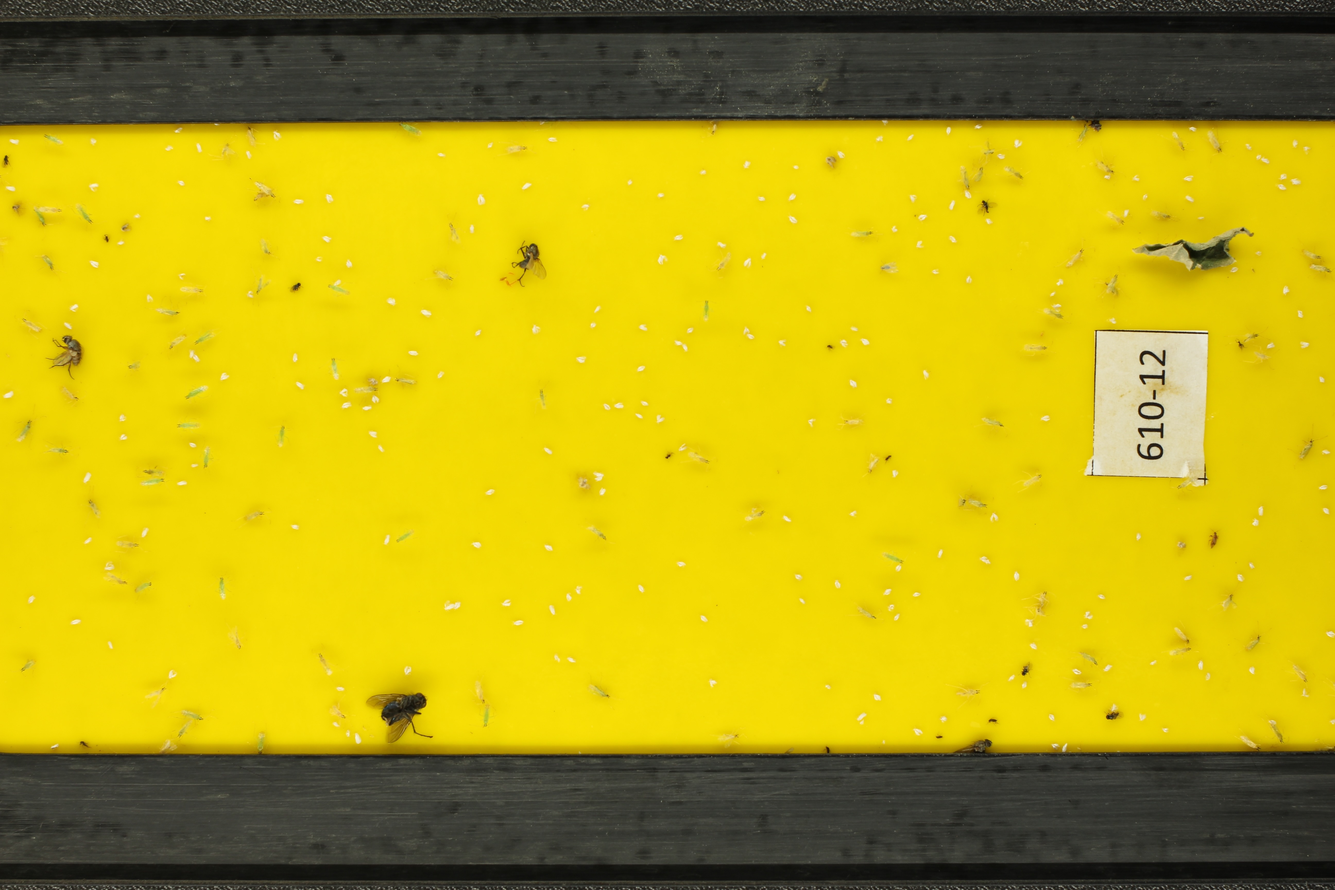MR: (228, 500, 280, 536), (1013, 465, 1054, 499), (221, 618, 251, 660), (583, 670, 616, 707), (581, 516, 613, 554), (1239, 620, 1273, 654), (855, 446, 883, 487), (1264, 715, 1297, 749), (210, 565, 236, 606), (854, 597, 882, 634), (307, 642, 335, 678), (40, 438, 77, 465), (140, 680, 171, 712), (1284, 655, 1316, 685), (79, 491, 108, 524), (1291, 438, 1318, 472), (1167, 617, 1195, 647), (1231, 726, 1264, 751), (685, 448, 724, 469), (709, 727, 746, 749), (393, 524, 425, 549), (738, 502, 771, 526), (949, 679, 984, 701), (1175, 470, 1201, 499), (1064, 678, 1101, 698), (176, 704, 210, 725), (1164, 643, 1201, 662), (1217, 587, 1242, 614), (114, 538, 149, 556), (101, 573, 133, 592), (16, 655, 41, 679), (133, 577, 157, 602), (251, 722, 271, 751), (136, 475, 170, 492), (200, 441, 216, 477), (480, 702, 498, 734), (468, 679, 491, 704), (1078, 647, 1102, 670), (170, 719, 196, 740), (1028, 586, 1054, 605), (135, 463, 170, 476), (971, 495, 996, 512), (890, 552, 909, 566)
WF: (59, 319, 79, 333), (527, 321, 545, 336), (654, 252, 673, 266), (1278, 282, 1293, 299), (1037, 412, 1056, 425), (674, 440, 690, 455), (417, 305, 433, 320), (593, 467, 607, 484), (635, 321, 652, 335), (846, 377, 863, 391), (652, 413, 671, 425), (384, 295, 399, 310), (706, 676, 722, 690), (855, 710, 869, 726), (940, 124, 956, 138), (741, 255, 757, 269), (919, 368, 935, 382), (2, 388, 19, 401), (84, 180, 102, 192), (113, 236, 131, 248), (291, 380, 309, 392), (469, 538, 484, 552), (271, 128, 285, 143), (475, 192, 489, 207), (1011, 136, 1025, 151), (1050, 300, 1065, 314), (86, 257, 102, 270), (739, 158, 755, 171), (882, 395, 898, 408), (379, 373, 396, 385), (834, 149, 851, 161), (785, 214, 802, 226), (1227, 265, 1244, 277), (541, 445, 555, 459), (194, 140, 208, 154), (466, 222, 480, 236), (838, 336, 852, 350), (634, 581, 647, 596), (337, 386, 352, 399), (343, 257, 358, 270), (322, 192, 337, 205), (579, 202, 594, 215), (872, 690, 884, 706), (115, 412, 131, 424), (519, 181, 535, 193), (339, 400, 356, 411), (671, 233, 688, 244), (243, 148, 256, 162), (67, 301, 81, 314), (586, 319, 600, 332), (775, 336, 789, 349), (914, 238, 928, 251), (81, 470, 93, 485), (174, 175, 189, 187), (433, 368, 448, 380), (915, 212, 930, 224), (1052, 277, 1067, 289), (1263, 340, 1278, 352), (167, 665, 178, 681), (612, 401, 628, 412), (1274, 182, 1290, 193), (1180, 173, 1196, 184), (382, 532, 391, 551), (114, 433, 133, 442), (367, 395, 384, 405), (781, 513, 794, 526), (1299, 688, 1312, 701), (288, 351, 301, 364), (846, 507, 860, 519), (176, 271, 190, 283), (546, 134, 560, 146), (945, 233, 959, 245), (807, 416, 819, 430), (1255, 504, 1266, 519), (162, 144, 177, 155), (218, 372, 233, 383), (634, 363, 649, 374), (1186, 124, 1201, 135), (404, 349, 422, 358), (511, 618, 527, 628), (631, 411, 647, 421), (859, 337, 875, 347), (26, 594, 39, 606), (576, 353, 588, 366), (592, 303, 604, 316), (905, 132, 918, 144), (1101, 172, 1114, 184), (1183, 193, 1196, 205), (69, 617, 83, 628), (547, 602, 558, 616), (132, 210, 146, 221), (367, 429, 381, 440), (360, 404, 374, 415), (907, 193, 921, 204), (787, 192, 801, 203), (715, 239, 729, 250), (962, 274, 976, 285), (1105, 316, 1119, 327), (1303, 145, 1317, 156), (1296, 307, 1307, 321), (353, 731, 363, 746), (573, 583, 583, 598), (3, 184, 18, 194), (292, 197, 307, 207), (973, 123, 988, 133), (1298, 340, 1313, 350), (105, 639, 117, 651), (543, 541, 555, 553), (700, 614, 712, 626), (1323, 628, 1335, 640), (171, 126, 187, 135), (314, 253, 326, 265), (103, 559, 114, 572), (832, 578, 843, 591), (243, 288, 256, 299), (331, 276, 344, 287), (321, 234, 334, 245), (995, 151, 1008, 162), (757, 251, 770, 262), (983, 216, 996, 227), (1121, 206, 1132, 219), (1261, 156, 1274, 167), (8, 138, 22, 148), (754, 193, 768, 203), (911, 727, 926, 736), (637, 399, 652, 408), (500, 596, 512, 607), (484, 486, 495, 498), (1027, 641, 1039, 652), (1235, 573, 1246, 585), (1320, 505, 1331, 517), (1321, 447, 1332, 459), (485, 140, 497, 151), (600, 400, 612, 411), (963, 189, 974, 201), (947, 199, 958, 211), (803, 304, 814, 316), (931, 267, 943, 278), (1140, 192, 1151, 204), (880, 585, 890, 598), (989, 510, 999, 523), (1012, 570, 1022, 583), (1083, 610, 1096, 620), (1247, 560, 1257, 573), (671, 338, 684, 348), (1130, 174, 1143, 184), (446, 599, 454, 615), (598, 486, 607, 500), (1181, 574, 1195, 583), (88, 138, 102, 147), (82, 535, 93, 546), (176, 478, 187, 489), (1251, 517, 1262, 528), (681, 343, 692, 354), (889, 224, 900, 235), (1196, 660, 1206, 672), (1133, 531, 1143, 543), (203, 214, 215, 224), (144, 293, 156, 303), (874, 135, 886, 145), (1316, 375, 1328, 385), (141, 526, 150, 539), (334, 685, 347, 694), (886, 601, 895, 614), (1104, 662, 1113, 675), (655, 191, 668, 200), (740, 326, 753, 335), (1252, 250, 1266, 258), (49, 741, 60, 751), (980, 553, 990, 564), (893, 612, 903, 623), (1096, 591, 1107, 601), (1137, 712, 1148, 722), (1317, 482, 1328, 492), (1048, 290, 1058, 301), (1243, 142, 1254, 152), (404, 665, 413, 677), (1024, 618, 1036, 627), (1149, 658, 1158, 670), (472, 328, 484, 337), (684, 326, 696, 335), (1197, 213, 1209, 222), (567, 655, 577, 665), (676, 558, 686, 568), (797, 596, 807, 606), (891, 469, 901, 479), (192, 354, 202, 364), (1291, 178, 1301, 188), (792, 572, 803, 581), (912, 590, 923, 599), (1007, 672, 1016, 683), (939, 713, 948, 724), (1072, 667, 1083, 676), (1050, 741, 1061, 750), (1109, 702, 1120, 711), (1247, 664, 1256, 675), (437, 151, 448, 160), (625, 178, 636, 187), (699, 168, 710, 177), (791, 164, 802, 173), (1289, 139, 1300, 148), (1277, 172, 1288, 181), (564, 590, 572, 602), (824, 681, 832, 693), (187, 440, 197, 449), (290, 522, 300, 531), (453, 601, 462, 611), (895, 564, 905, 573), (1081, 622, 1091, 631), (850, 325, 860, 334), (936, 547, 944, 558), (1021, 680, 1029, 691), (1205, 671, 1213, 682), (747, 332, 757, 340), (1161, 725, 1168, 736), (553, 654, 561, 663), (1048, 712, 1056, 721), (188, 350, 196, 359), (189, 461, 198, 468), (377, 444, 384, 453), (1328, 717, 1335, 726), (345, 728, 351, 737), (1062, 742, 1068, 751), (1254, 154, 1263, 160), (332, 720, 339, 727)
